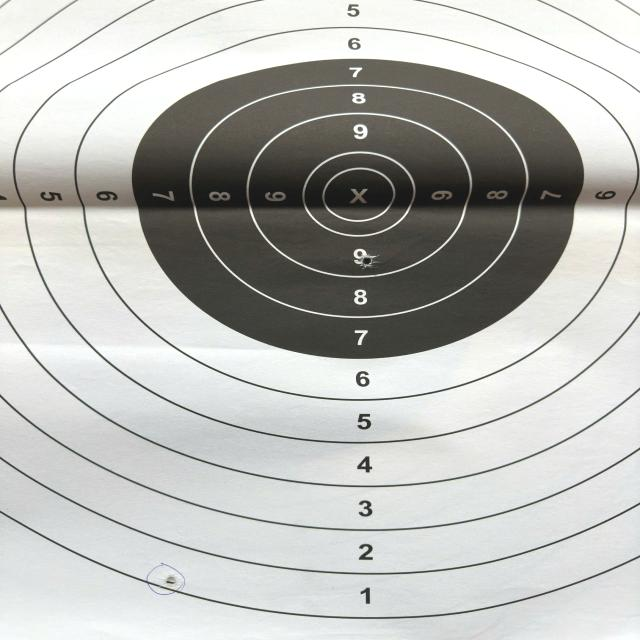bullet: (164, 576, 179, 588), (365, 256, 372, 267)
